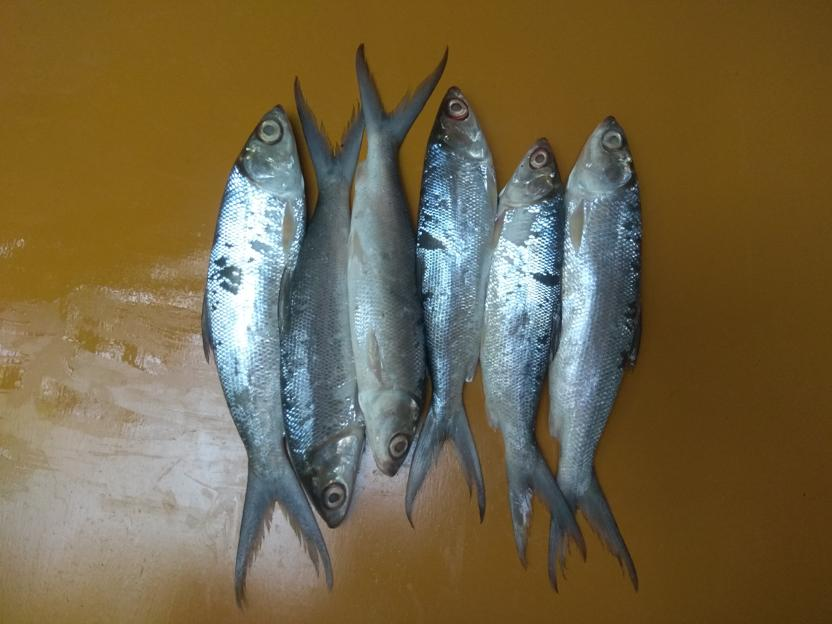Fish head: (299, 425, 368, 530), (229, 104, 306, 198), (566, 114, 641, 195), (355, 389, 424, 477), (426, 84, 493, 162), (498, 136, 566, 210)
Fish tail: (233, 452, 337, 608), (548, 463, 642, 594), (504, 443, 589, 569), (405, 401, 487, 530), (352, 41, 451, 146), (292, 74, 370, 190)
